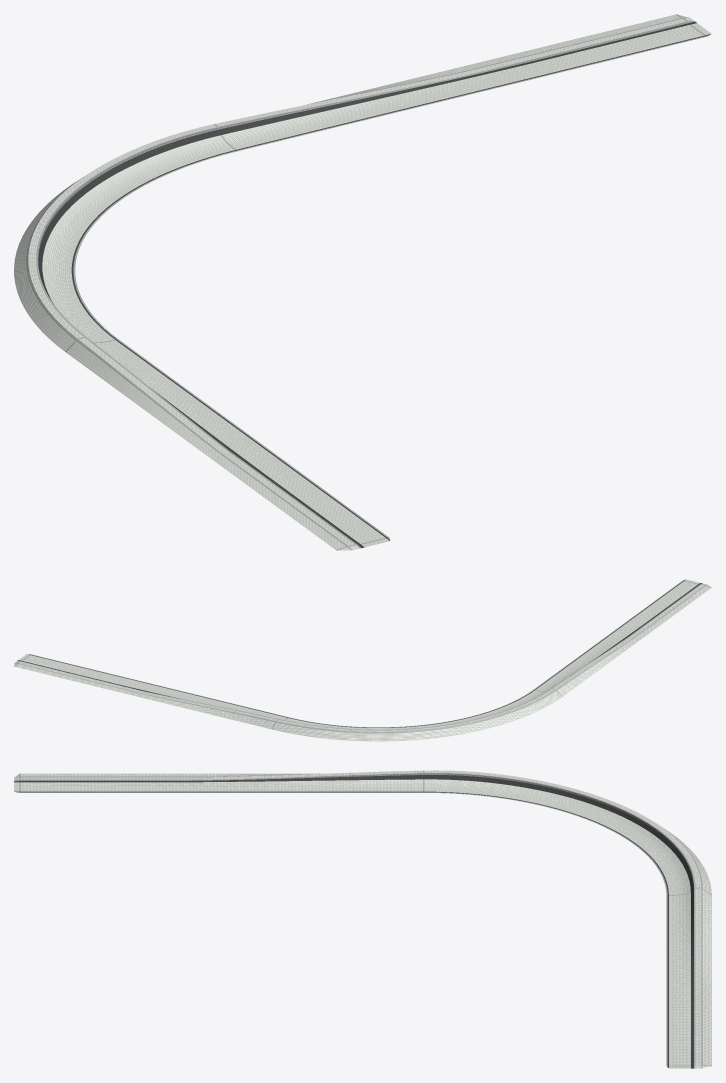
Rendered from Large Banked Curve 800m.fbx.
3 views of the same model, one above another, from view 1: azimuth 30°, elevation 25°; view 2: azimuth 150°, elevation 25°; view 3: azimuth 270°, elevation 25° (orthographic). The views are drawn at different scales.
Parts seen in each view (by area): view 1: Banked curve; view 2: Banked curve; view 3: Banked curve.
Part boxes in pixels (x1,y1,x2,y2): Banked curve: (14,14,711,550); Banked curve: (14,579,711,741); Banked curve: (14,770,711,1068).
Bounding box in the file's own units: 49275 × 643 × 49275.
